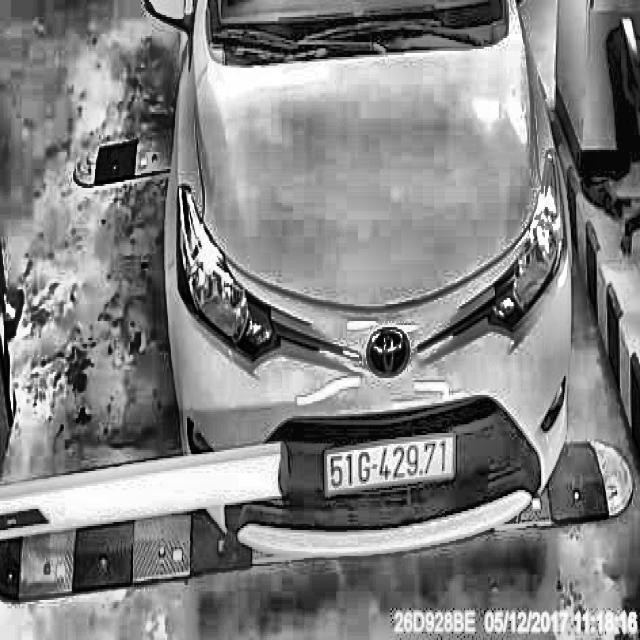plate: (320, 426, 460, 499)
